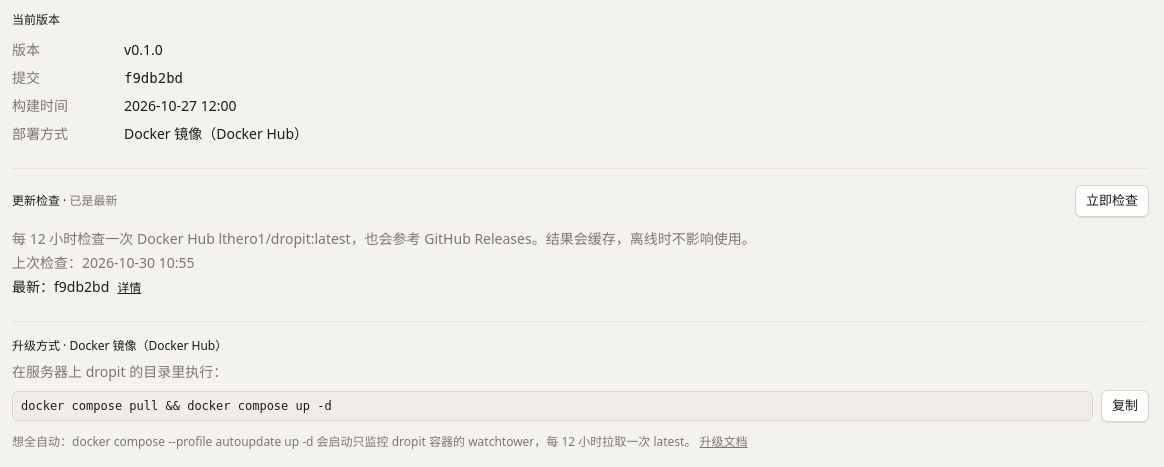
update panel › shows the current build, status and the docker upgrade command; 立即检查 posts and refreshes
Expected: the text with test id "current-version" reads "v0.1.0", x1=124 y1=40 x2=163 y2=59
Expected: the text "f9db2bd" is shown, x1=124 y1=70 x2=183 y2=86
Click the button "立即检查" at coordinates (1112, 201), box x1=1075 y1=185 x2=1149 y2=217
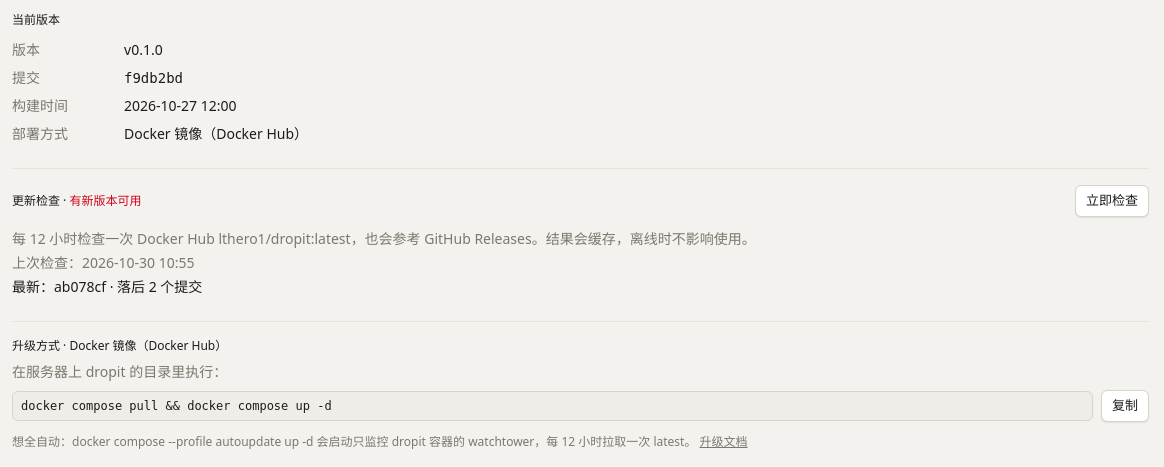
Result: the text with test id "update-status" reads "有新版本可用" at x1=70 y1=192 x2=142 y2=209
Result: the text "最新：ab078cf · 落后 2 个提交" is shown at x1=12 y1=277 x2=202 y2=296
